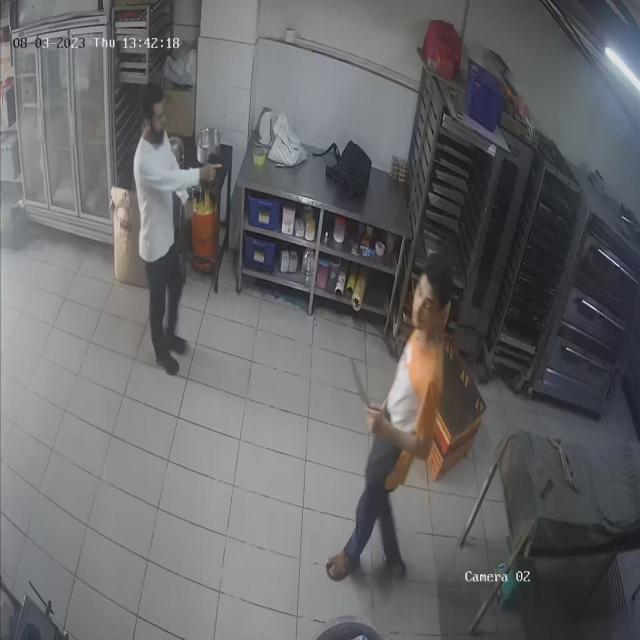Gun: (198, 139, 250, 189)
Knife: (345, 351, 391, 414)
